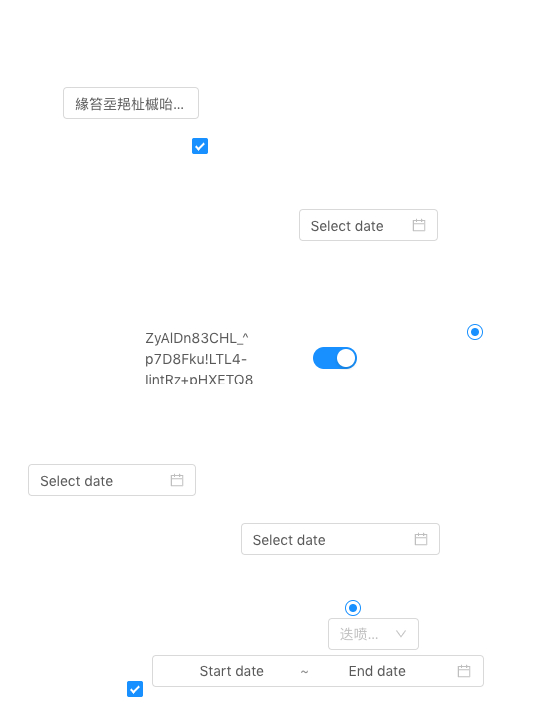Checkbox: (127, 678, 143, 699), (192, 135, 208, 156)
DatePicker: (241, 523, 440, 555), (28, 464, 196, 496), (299, 209, 438, 241)
Input: (63, 87, 199, 119)
Radio: (467, 321, 483, 341), (345, 597, 361, 617)
RangePicker: (152, 655, 504, 687)
Select: (328, 618, 419, 650)
Switch: (313, 346, 357, 370)
Text: (145, 327, 255, 384)
